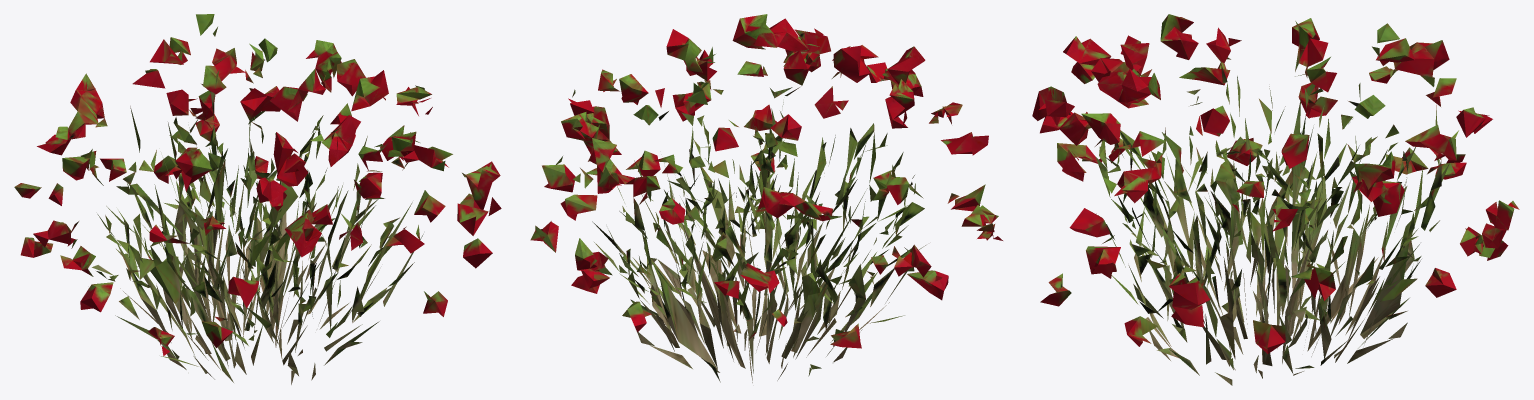
3 renders of one model, left to right at view 1: azimuth 30°, elevation 25°; view 2: azimuth 150°, elevation 25°; view 3: azimuth 270°, elevation 25°, orthographic. The views are drawn at different scales.
Visible parts, largest first — view 1: berry_bush; view 2: berry_bush; view 3: berry_bush.
Part boxes in pixels (x1,y1,x2,y2): berry_bush: (14,14,501,384); berry_bush: (530,14,1002,382); berry_bush: (1032,14,1519,385).
Bounding box in the file's own units: 1.87 × 1.28 × 1.7.
1 material, 1 textured.
